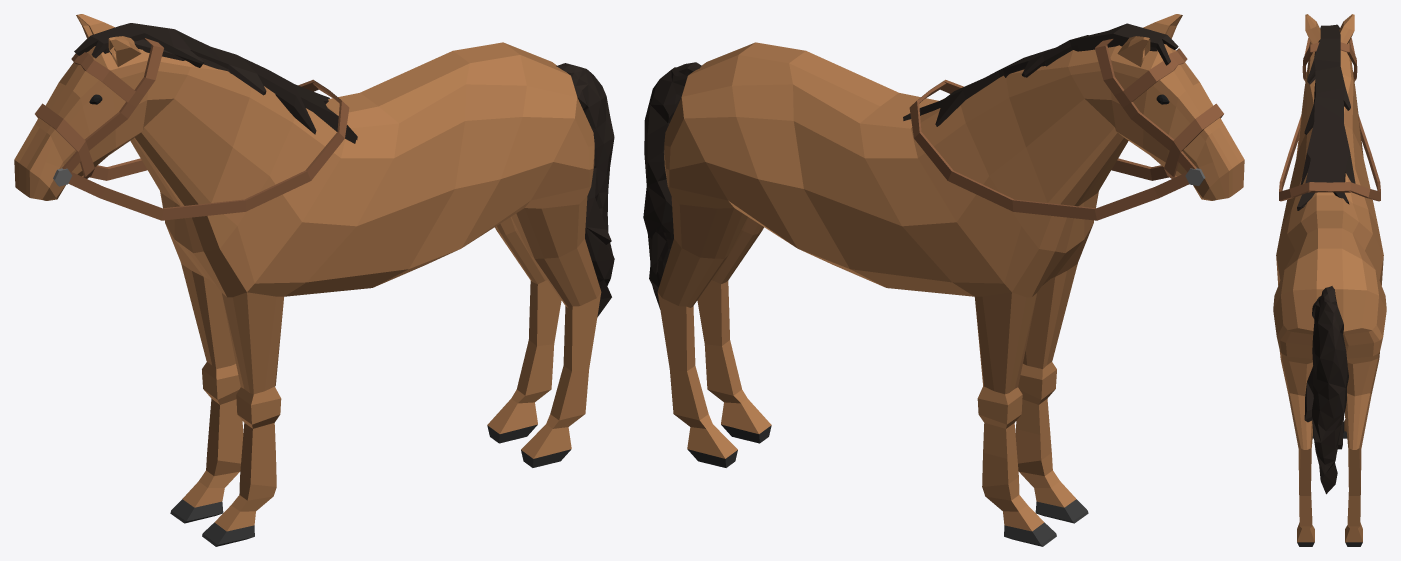
The model's file is Paard_bruin.fbx.
The picture shows the model from 3 angles, left to right: view 1: azimuth 30°, elevation 25°; view 2: azimuth 150°, elevation 25°; view 3: azimuth 270°, elevation 25°; orthographic projection. The views are drawn at different scales.
Parts seen in each view (by area): view 1: Paard.001, Hoofdstel.002, Haar.001, Staart.001; view 2: Paard.001, Hoofdstel.002, Staart.001, Haar.001; view 3: Paard.001, Staart.001, Haar.001, Hoofdstel.002.
Part boxes in pixels (<box>): Paard.001: <box>14,14,601,546</box>; Hoofdstel.002: <box>35,38,349,220</box>; Haar.001: <box>74,23,357,143</box>; Staart.001: <box>556,63,614,317</box>; Paard.001: <box>657,14,1244,546</box>; Hoofdstel.002: <box>909,39,1223,220</box>; Staart.001: <box>643,62,701,309</box>; Haar.001: <box>903,23,1178,126</box>; Paard.001: <box>1273,14,1386,546</box>; Staart.001: <box>1304,286,1348,494</box>; Haar.001: <box>1297,24,1355,210</box>; Hoofdstel.002: <box>1279,38,1380,201</box>.
Size of the model in its own units: 299 by 256 by 69.94.
